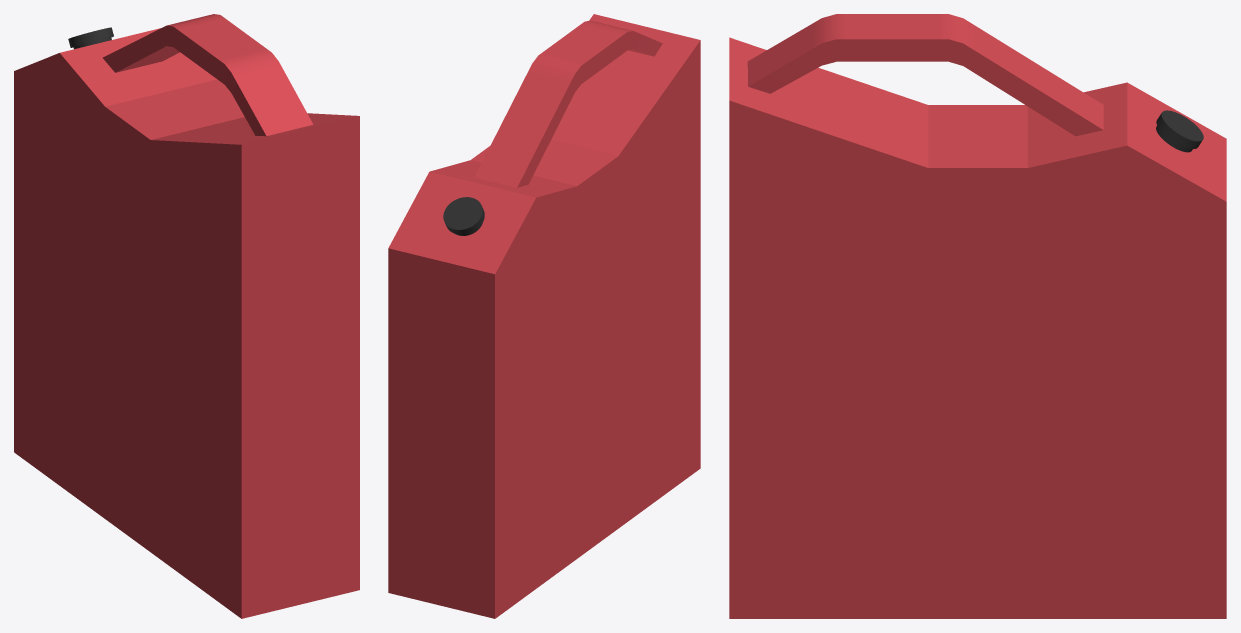
The model's file is Gasoline.fbx.
The picture shows the model from 3 angles, left to right: view 1: azimuth 30°, elevation 25°; view 2: azimuth 150°, elevation 25°; view 3: azimuth 270°, elevation 25°; orthographic projection. The views are drawn at different scales.
Parts seen in each view (by area): view 1: Gasoline; view 2: Gasoline; view 3: Gasoline.
Part boxes in pixels (x1,y1,x2,y2): Gasoline: (14, 14, 359, 618); Gasoline: (388, 14, 700, 618); Gasoline: (729, 14, 1226, 618).
Size of the model in its own units: 60 by 248 by 200.
